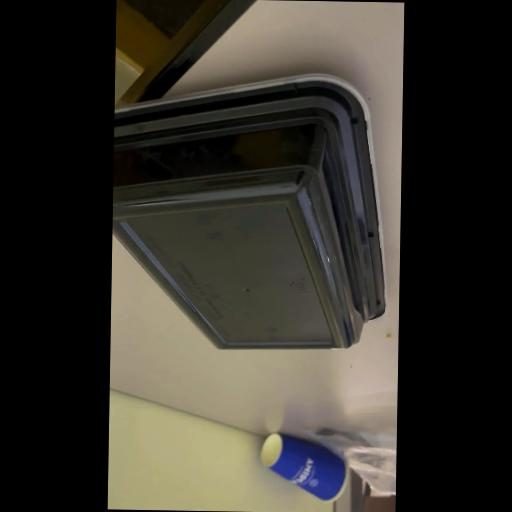rigid_plastic_container: (110, 67, 394, 355)
